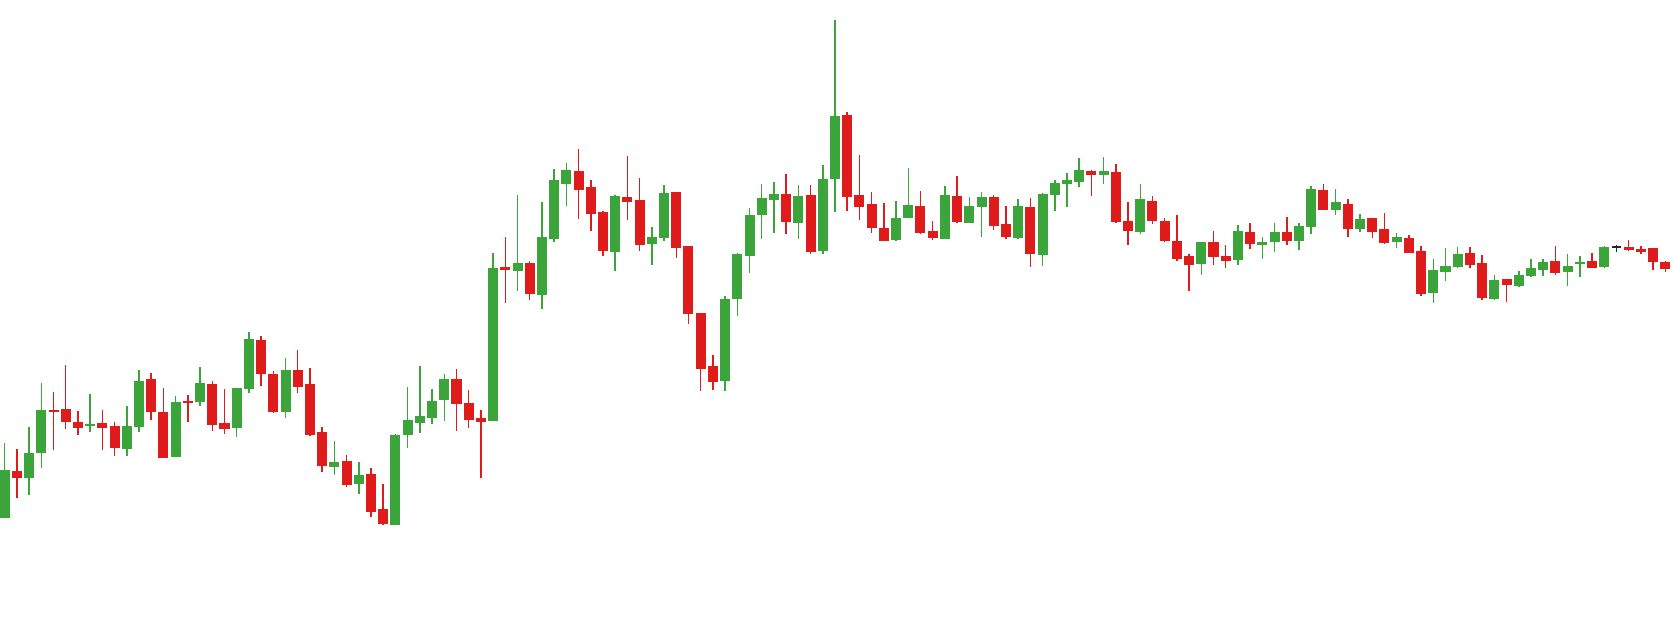buy: (522, 194, 733, 396), (402, 377, 487, 486)
